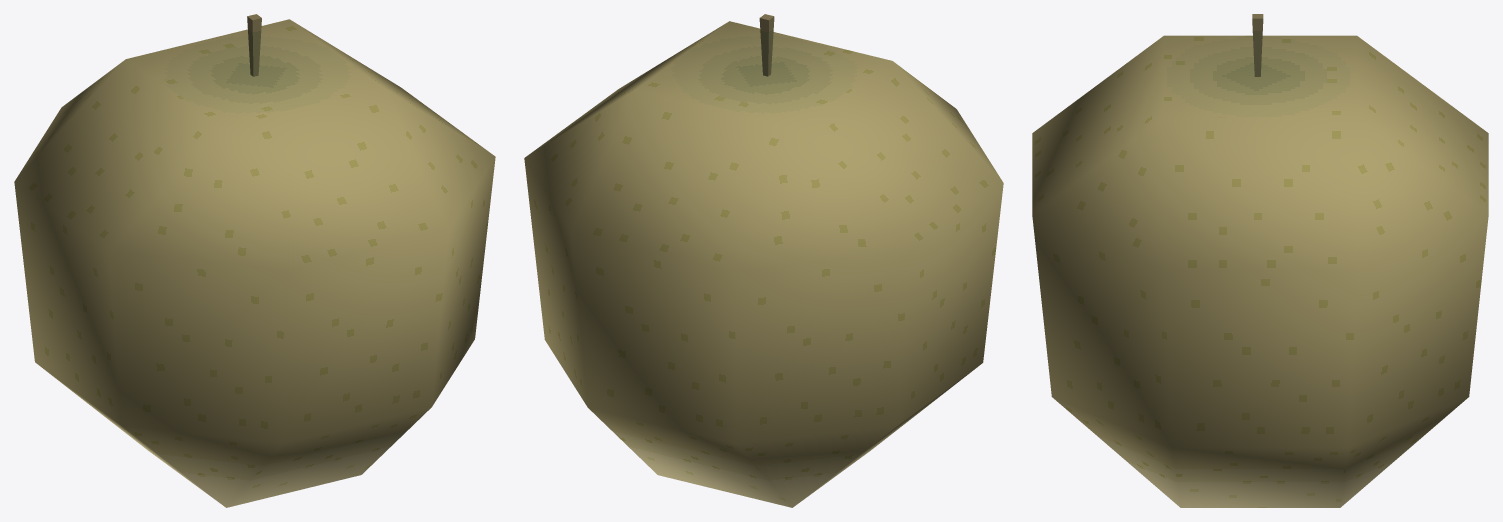
The model's file is 03dd_Pear.glb.
3 views of the same model, side by side, from view 1: azimuth 30°, elevation 25°; view 2: azimuth 150°, elevation 25°; view 3: azimuth 270°, elevation 25° (orthographic). The views are drawn at different scales.
Parts seen in each view (by area): view 1: part_0; view 2: part_0; view 3: part_0.
Part boxes in pixels (x1=…): part_0: x1=14, y1=14, x2=495, y2=507; part_0: x1=524, y1=14, x2=1003, y2=507; part_0: x1=1032, y1=14, x2=1488, y2=507.
Bounding box in the file's own units: 0.1005 × 0.111 × 0.1005.
1 material, 1 textured.
